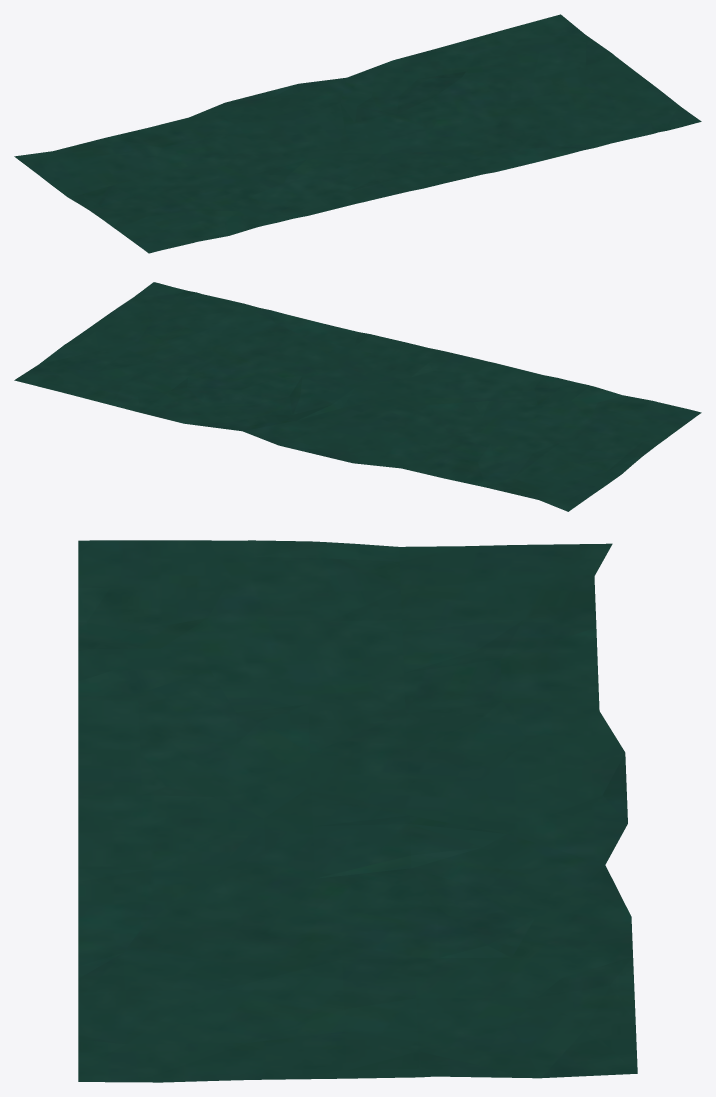
3 renders of one model, top to bottom at view 1: azimuth 30°, elevation 25°; view 2: azimuth 150°, elevation 25°; view 3: azimuth 270°, elevation 25°, orthographic. The views are drawn at different scales.
Size of the model in its own units: 52.22 by 0.451 by 23.08.
1 material, 1 textured.
